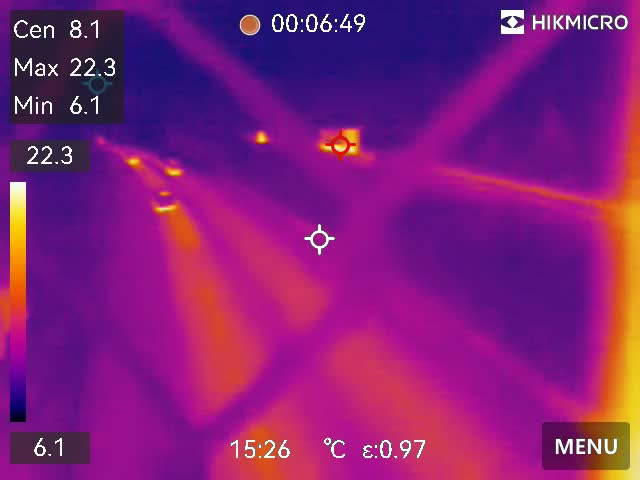heavyTruck: (304, 121, 367, 156)
